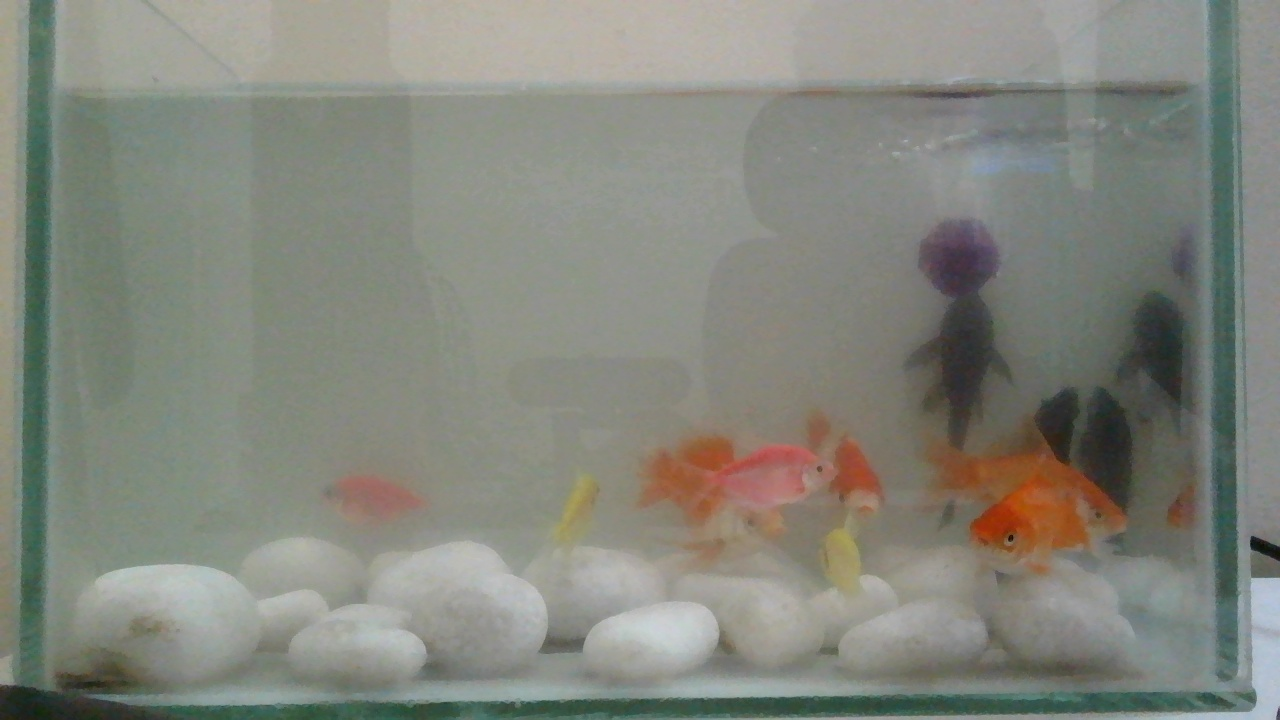fish: (647, 407, 887, 599), (958, 437, 1131, 568), (318, 467, 432, 535)
